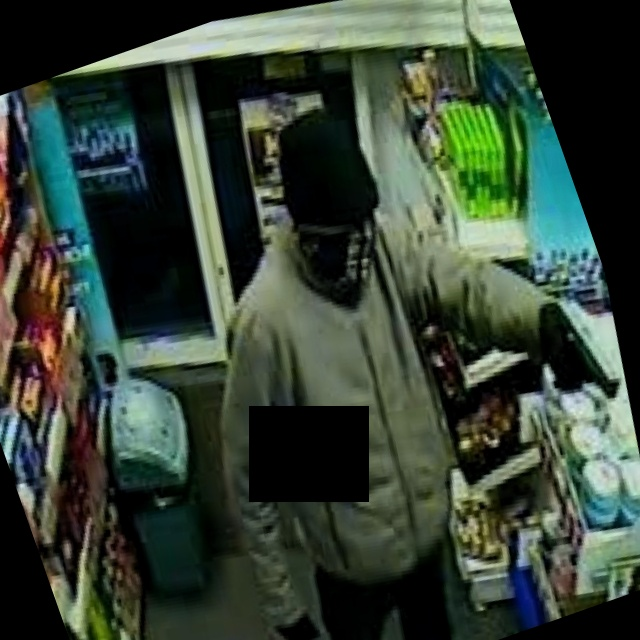gun: (524, 258, 640, 422)
